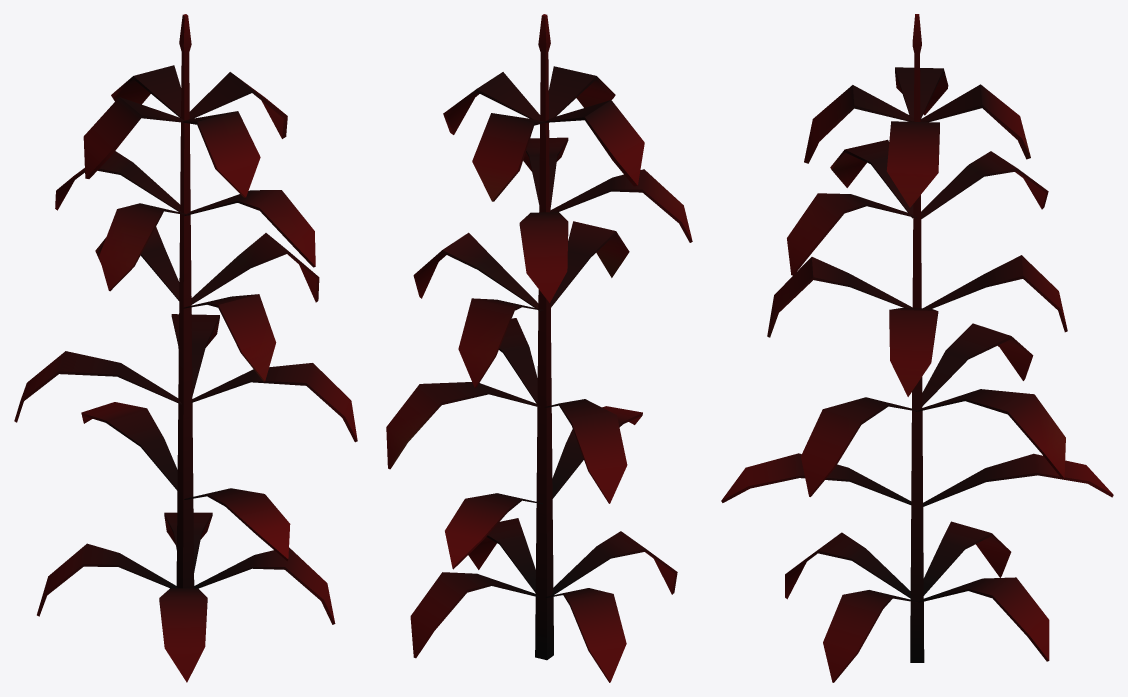
Rendered from Corn_1.fbx.
3 renders of one model, left to right at view 1: azimuth 30°, elevation 25°; view 2: azimuth 150°, elevation 25°; view 3: azimuth 270°, elevation 25°, orthographic.
Parts seen in each view (by area): view 1: Corn_1; view 2: Corn_1; view 3: Corn_1.
Part boxes in pixels (x1,y1,x2,y2): Corn_1: (14, 14, 357, 682); Corn_1: (386, 14, 692, 682); Corn_1: (721, 14, 1113, 682).
Size of the model in its own units: 82.37 by 198 by 109.
